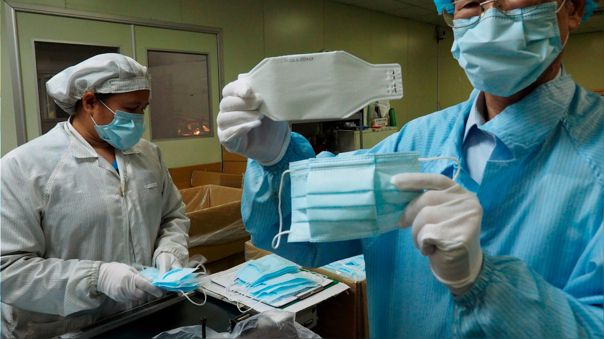with_mask: (452, 2, 582, 92), (60, 63, 150, 155)
